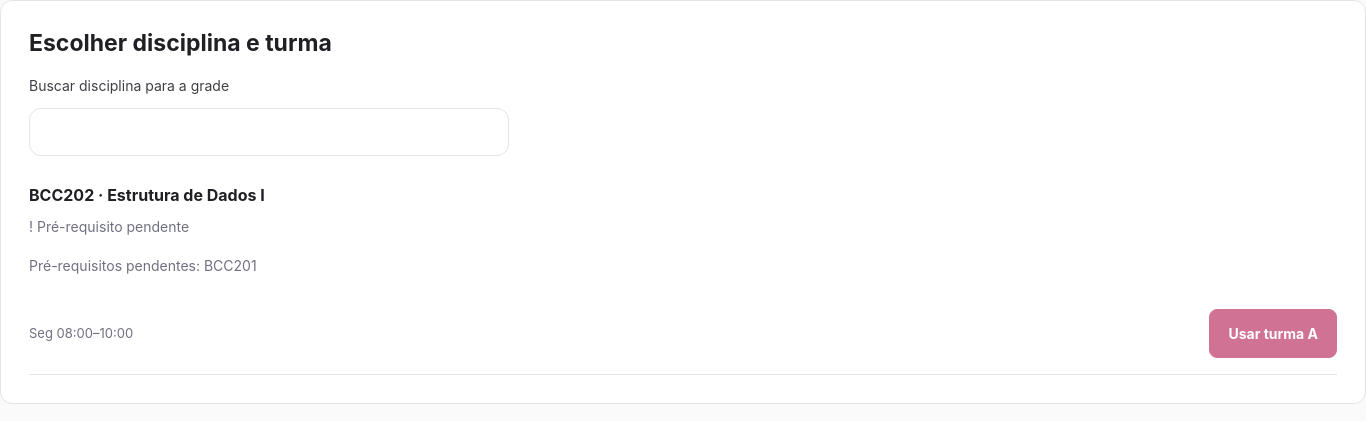
it: exibe o pré-requisito informado pela API e permite escolher a turma quando liberada
Later steps or results of the test are not shown.
Step 1. Type "BCC999" into the search field → (269, 132), box [29,108,509,156]
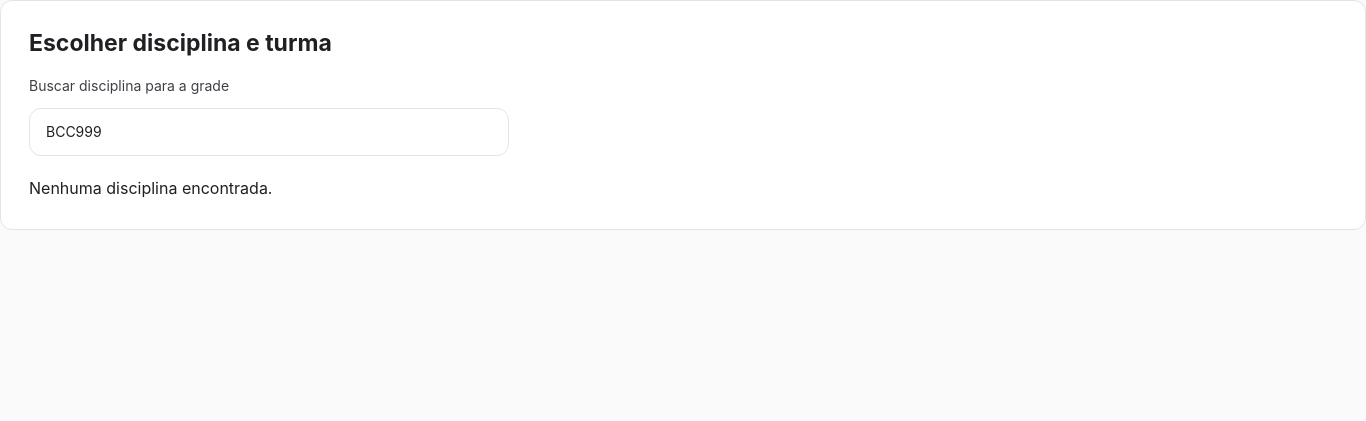
Check: the text "Nenhuma disciplina encontrada." is shown, box [29,178,272,198]
Step 2. Replace the text in the search field with "BCC202" → (269, 132), box [29,108,509,156]
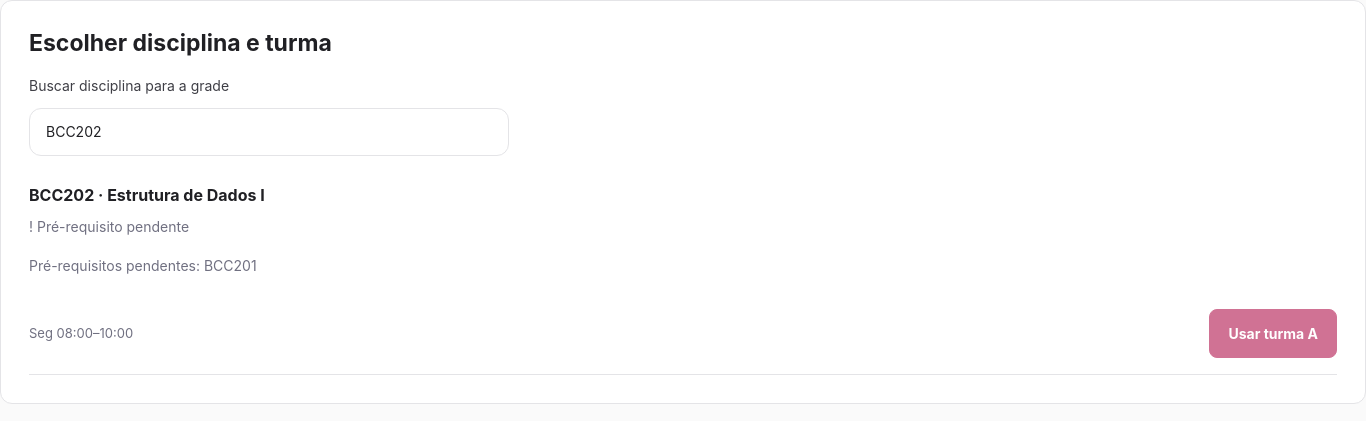
Check: the text "Pré-requisitos pendentes: BCC201" is shown, box [29,257,257,274]
Check: the button "Usar turma A" is disabled, box [1209,309,1337,358]
